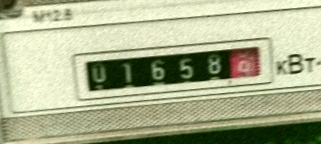0: (88, 63, 107, 86)
1: (118, 61, 135, 87)
5: (176, 57, 194, 83)
6: (147, 59, 167, 85)
8: (204, 54, 223, 78)
9: (234, 59, 252, 82)
screen: (68, 32, 279, 111)
